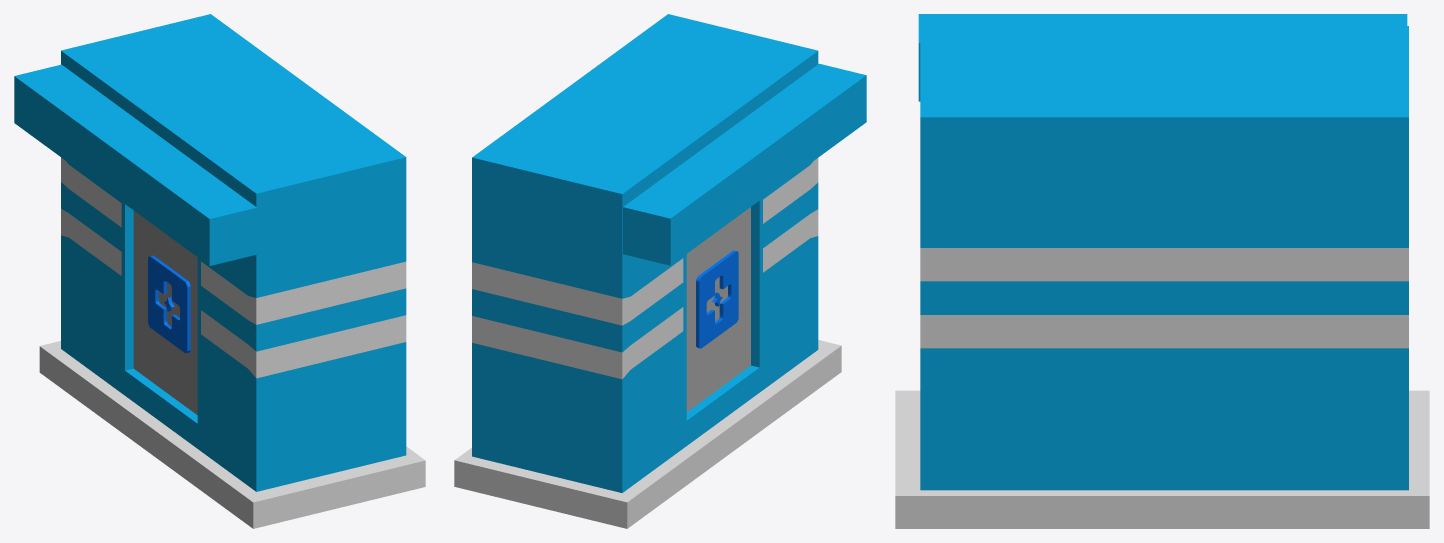
The model's file is blueboxrealagain.glb.
3 renders of one model, left to right at view 1: azimuth 30°, elevation 25°; view 2: azimuth 150°, elevation 25°; view 3: azimuth 270°, elevation 25°, orthographic. The views are drawn at different scales.
Parts seen in each view (by area): view 1: Cube.001, Cube.002, Cube, Cube.003, Curve; view 2: Cube.001, Cube.002, Cube.003, Cube, Curve; view 3: Cube.001, Cube.002.
Part boxes in pixels (<box>): Cube.001: <box>14,14,406,491</box>; Cube.002: <box>39,341,425,528</box>; Cube: <box>133,211,170,395</box>; Cube.003: <box>170,237,197,414</box>; Curve: <box>148,255,190,353</box>; Cube.001: <box>472,14,866,492</box>; Cube.002: <box>454,340,841,528</box>; Cube.003: <box>715,207,750,391</box>; Cube: <box>686,233,714,411</box>; Curve: <box>696,250,738,348</box>; Cube.001: <box>918,14,1408,490</box>; Cube.002: <box>895,390,1429,528</box>.
Size of the model in its own units: 1.83 by 2.75 by 3.28.
